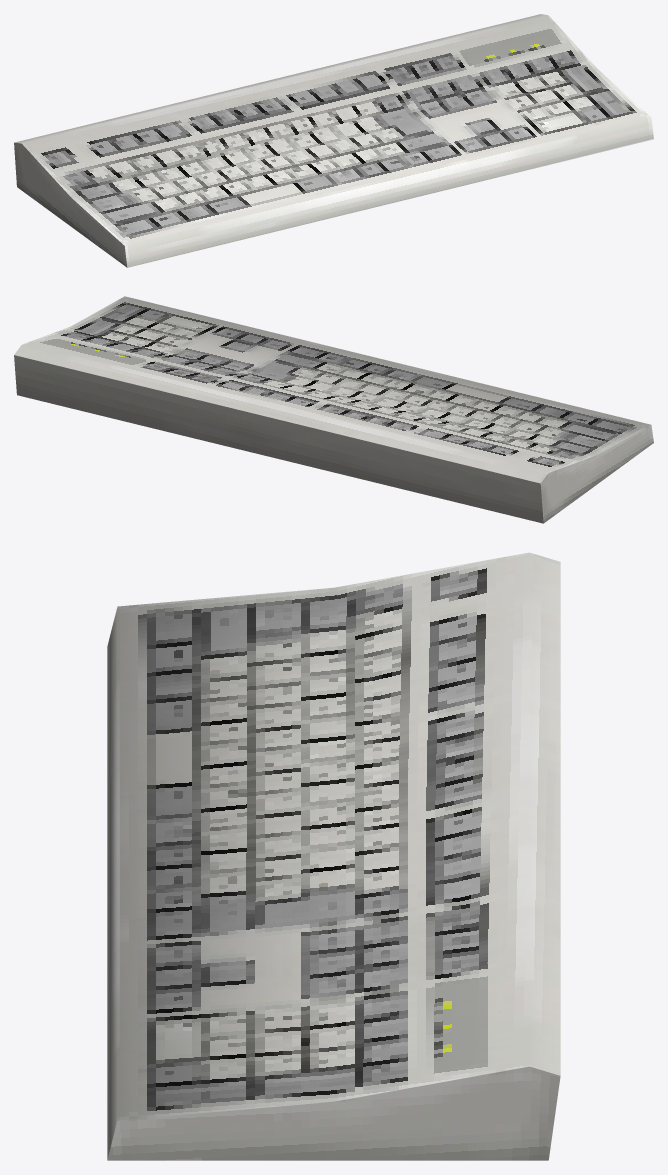
The model's file is Keyboard.glb.
3 views of the same model, one above another, from view 1: azimuth 30°, elevation 25°; view 2: azimuth 150°, elevation 25°; view 3: azimuth 270°, elevation 25° (orthographic). The views are drawn at different scales.
Visible parts, largest first — view 1: keyboard; view 2: keyboard; view 3: keyboard.
Boxes of the visible parts, bbox=[...] form: keyboard: bbox=[14, 14, 653, 267]; keyboard: bbox=[14, 296, 653, 523]; keyboard: bbox=[107, 552, 560, 1160].
Bounding box in the file's own units: 0.455 × 0.0388 × 0.1696.
Materials: 1 (1 with a texture image).
